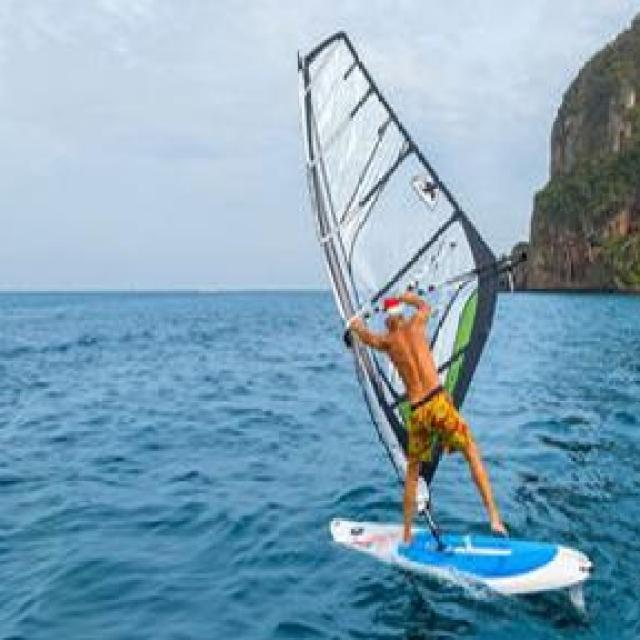sailboat: (298, 27, 596, 597)
